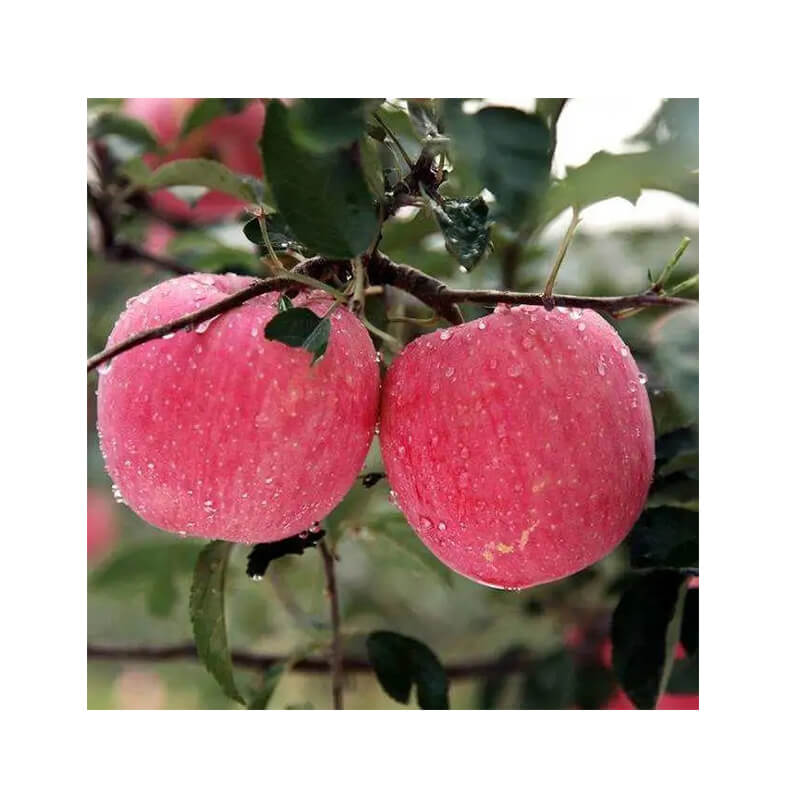apple: (96, 255, 379, 547), (385, 296, 660, 595)
